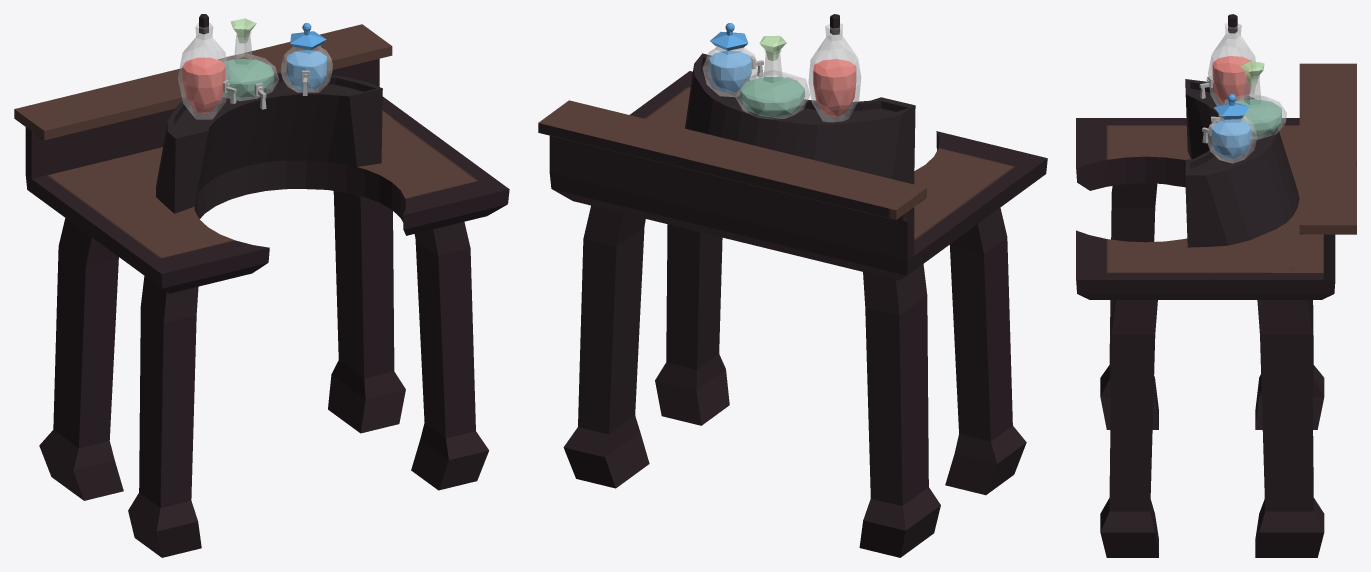
File: RGBStation.fbx
The picture shows the model from 3 angles, left to right: view 1: azimuth 30°, elevation 25°; view 2: azimuth 150°, elevation 25°; view 3: azimuth 270°, elevation 25°; orthographic projection. The views are drawn at different scales.
Parts seen in each view (by area): view 1: RGBStation, R_Bottle, G_Bottle, R_Potion, B_Bottle, G_Potion, B_Potion; view 2: RGBStation, R_Bottle, G_Bottle, G_Potion, R_Potion, B_Bottle, B_Potion, B_Lid; view 3: RGBStation, R_Bottle, B_Bottle, G_Bottle, R_Potion, B_Potion, G_Potion, B_Lid, G_Cork.
Boxes of the visible parts, box(x1,y1,x2,y2) form: RGBStation: box(14, 24, 509, 557); R_Bottle: box(178, 22, 230, 119); G_Bottle: box(221, 31, 278, 101); R_Potion: box(182, 57, 225, 113); B_Bottle: box(280, 44, 332, 92); G_Potion: box(223, 58, 273, 98); B_Potion: box(286, 50, 326, 90); RGBStation: box(538, 53, 1047, 557); R_Bottle: box(808, 23, 861, 122); G_Bottle: box(735, 50, 810, 118); G_Potion: box(740, 76, 804, 116); R_Potion: box(813, 59, 856, 116); B_Bottle: box(702, 45, 758, 97); B_Potion: box(709, 50, 751, 92); B_Lid: box(710, 23, 748, 50); RGBStation: box(1076, 63, 1356, 557); R_Bottle: box(1208, 23, 1255, 105); B_Bottle: box(1205, 113, 1257, 163); G_Bottle: box(1224, 73, 1286, 139); R_Potion: box(1212, 56, 1251, 104); B_Potion: box(1211, 120, 1251, 158); G_Potion: box(1224, 99, 1281, 137); B_Lid: box(1214, 94, 1249, 119); G_Cork: box(1240, 61, 1264, 84).
Bounding box in the file's own units: 9413 × 12094 × 6902.
